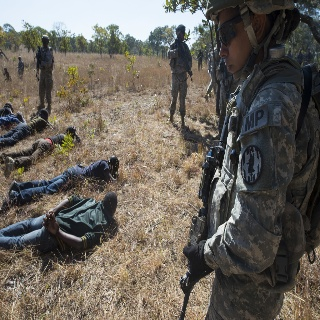rifle: (178, 92, 233, 320)
